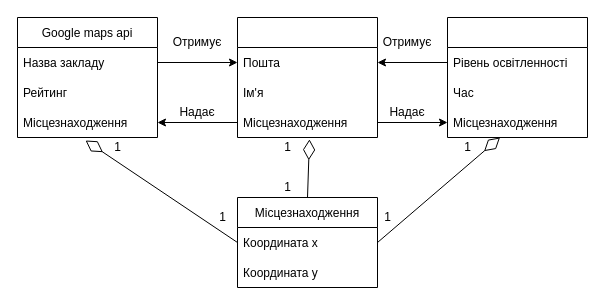
Some shapes in this 605 by 305 pixel diagram are drawn without their labels. Each missing label, with the box of its shape:
Освітленність: (446, 16, 588, 138)
Споживач: (236, 16, 378, 138)
